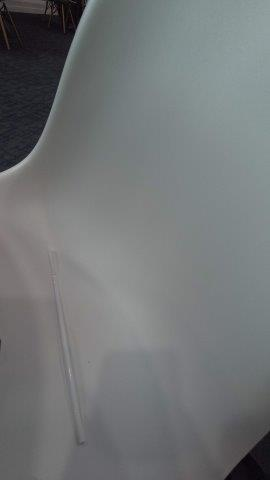sedotan: (50, 252, 86, 443)
